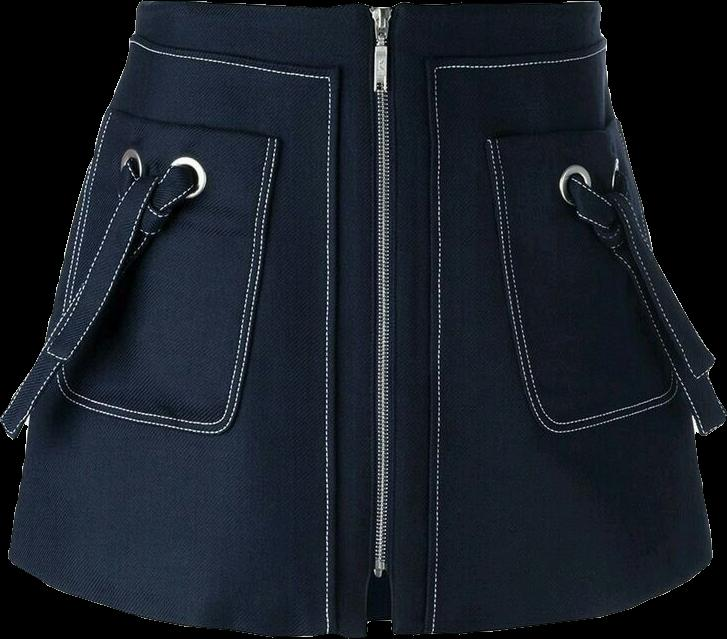Hemline: (6, 556, 713, 638)
Waistline: (129, 33, 346, 638), (422, 35, 608, 633), (136, 0, 599, 12)
